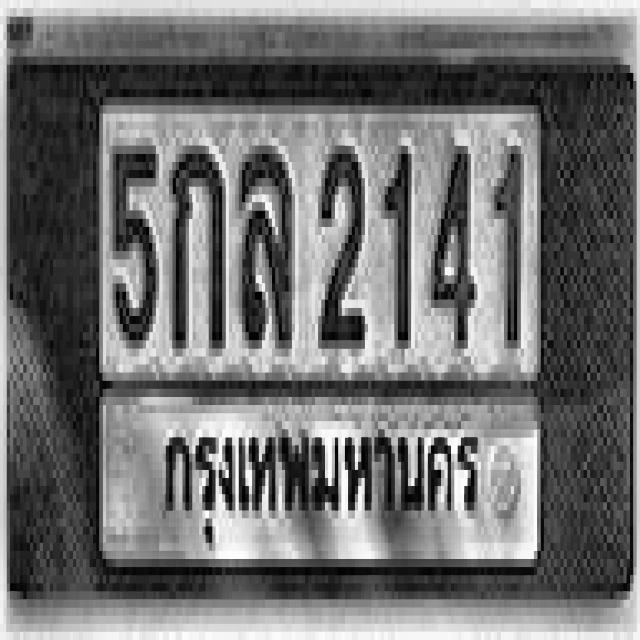license-plate: (10, 49, 634, 604)
